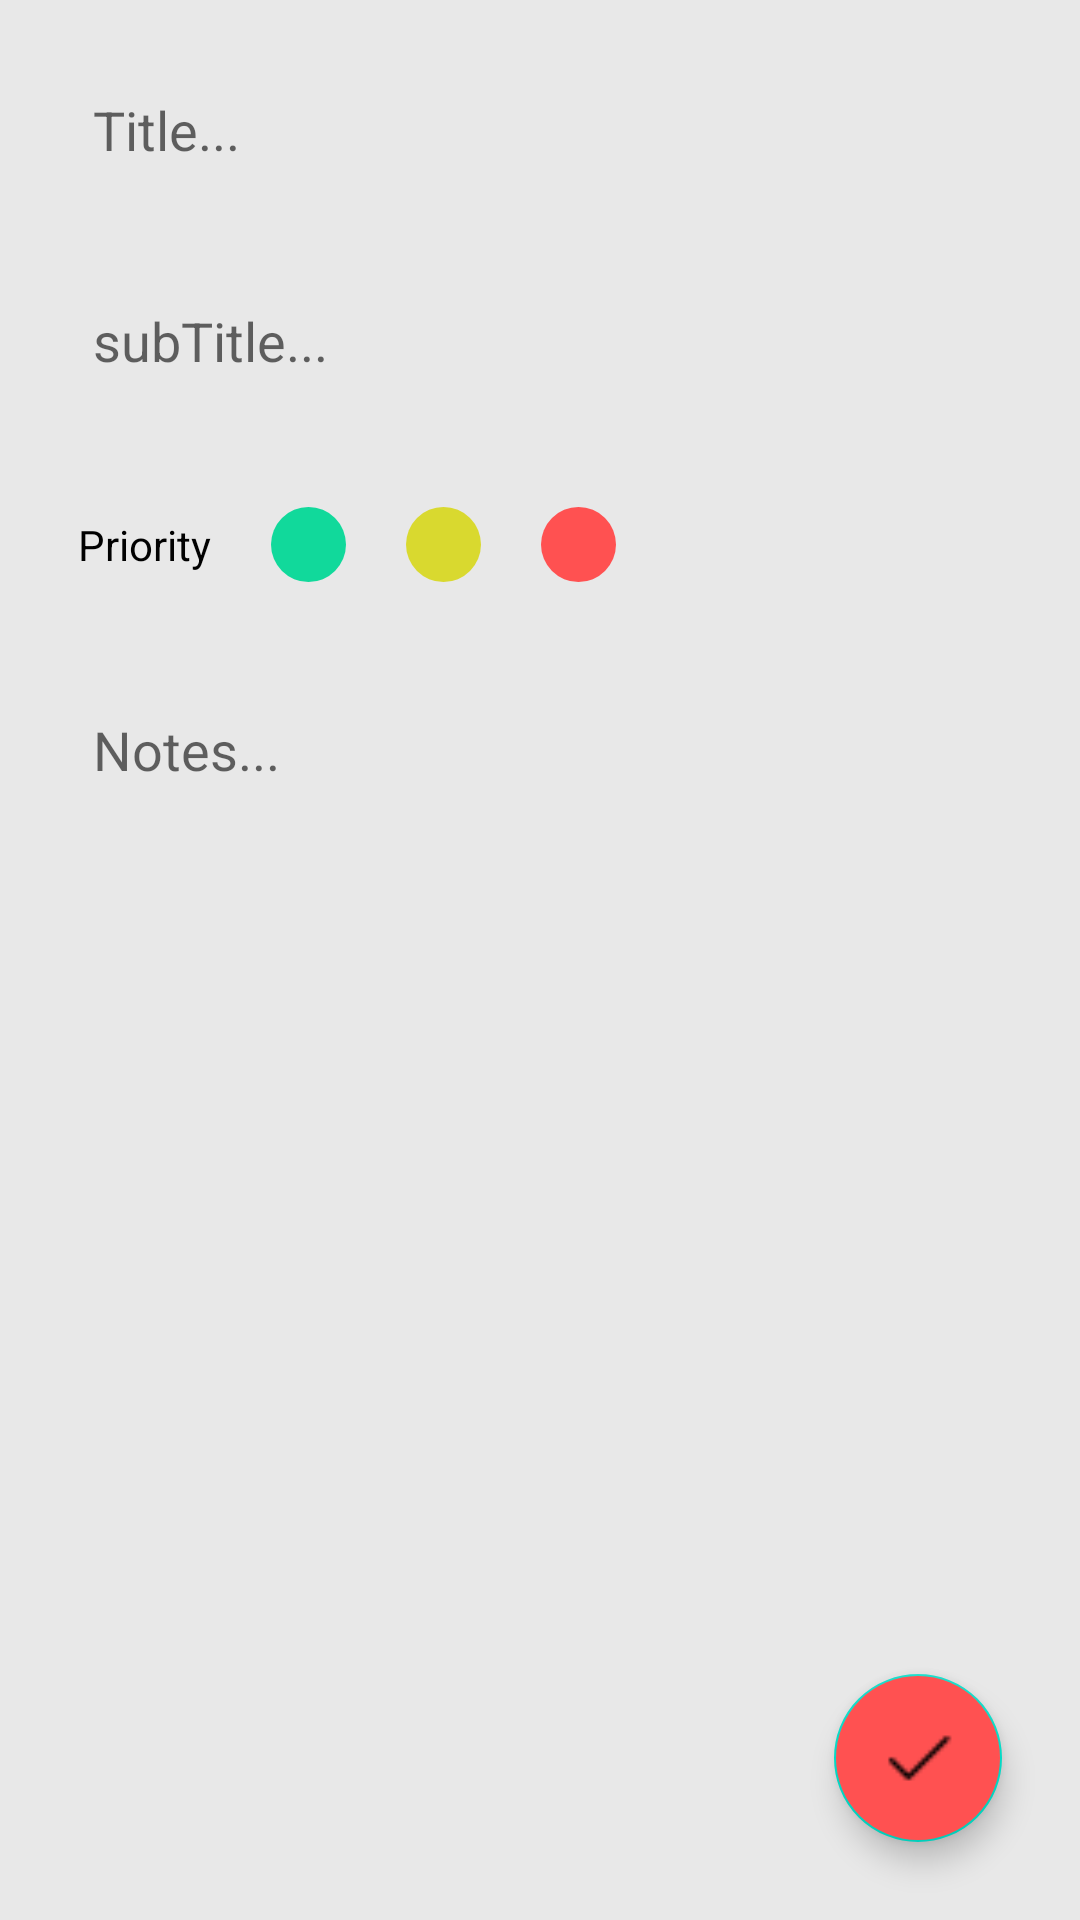

Icon bounding boxes for this 1080×1920 phone screenshot, format (x1,y1,x2,y2):
done: (834,1674,1002,1842)
